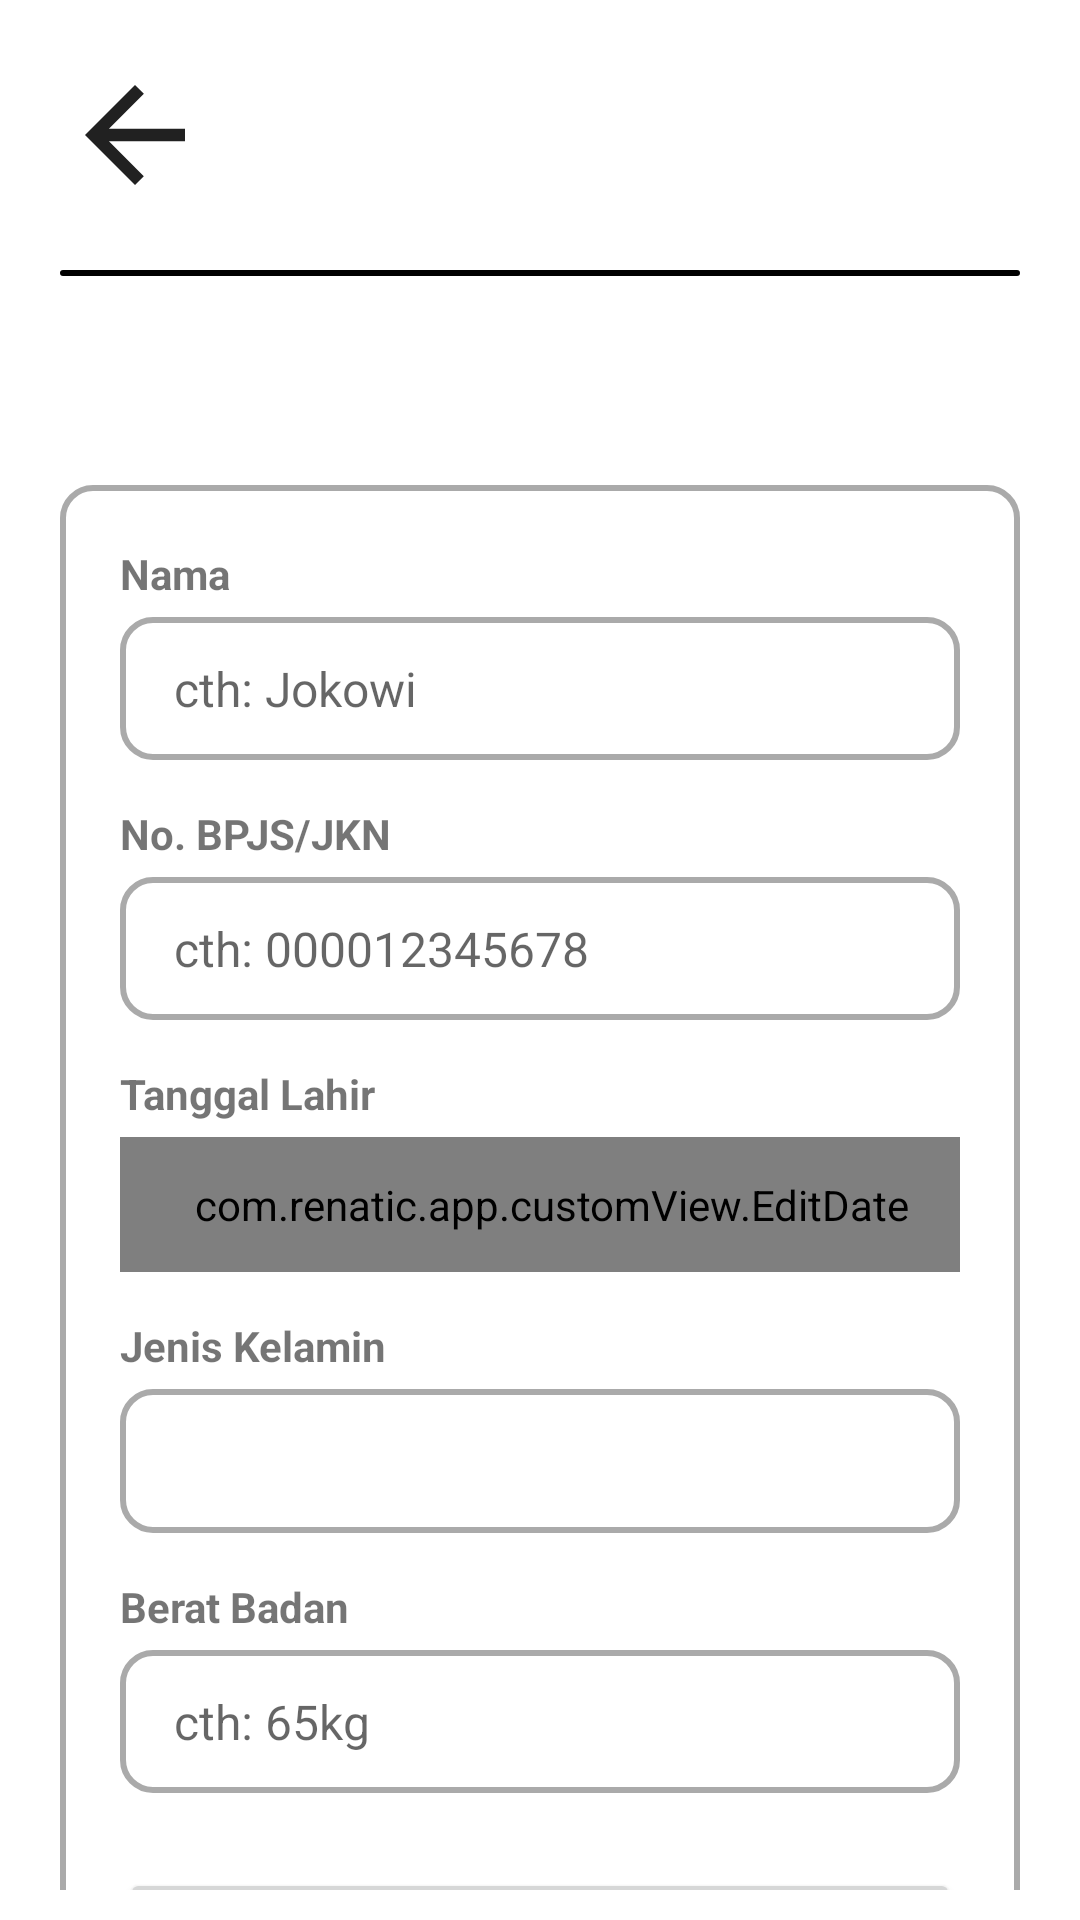

Icon click points for this 1080px x 1920px phone screenshot, format (x=x, y=y):
back: (x=135, y=135)
